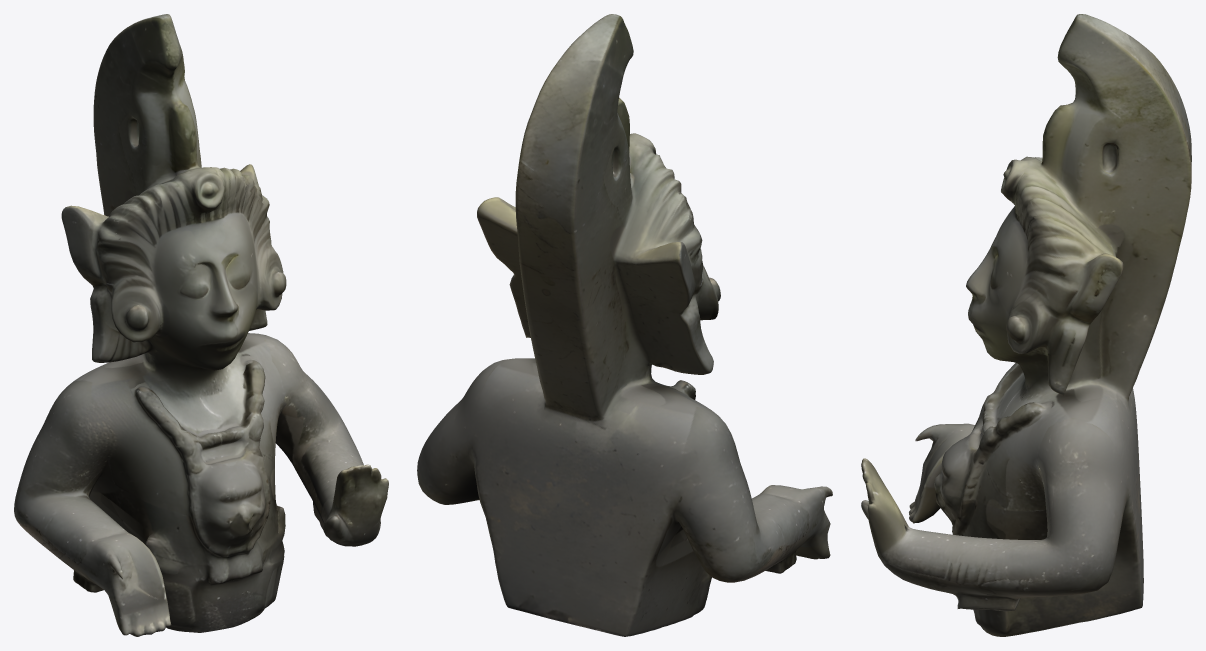
File: MayaE1.fbx
3 views of the same model, side by side, from view 1: azimuth 30°, elevation 25°; view 2: azimuth 150°, elevation 25°; view 3: azimuth 270°, elevation 25° (orthographic). The views are drawn at different scales.
Parts seen in each view (by area): view 1: Object_2; view 2: Object_2; view 3: Object_2.
Boxes of the visible parts, x1,y1,x2,y2 form: Object_2: (14,14,388,636); Object_2: (417,14,832,636); Object_2: (861,14,1191,636).
Bounding box in the file's own units: 110 × 95.81 × 190.
Materials: 1 (1 with a texture image).
